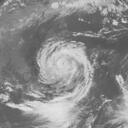cyclone: (36, 36, 93, 92)
